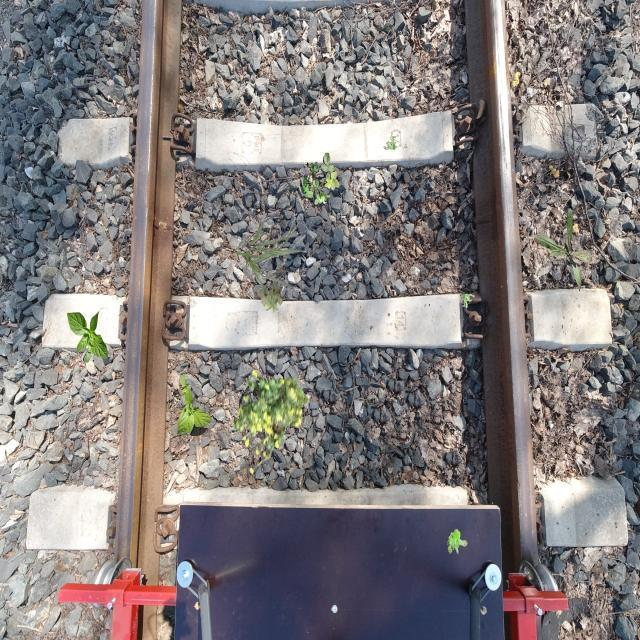Plant: (234, 370, 309, 475), (233, 217, 306, 310), (534, 208, 598, 292), (67, 310, 109, 363), (177, 374, 212, 436), (302, 153, 340, 208), (257, 281, 283, 313), (447, 529, 468, 554), (461, 293, 475, 308), (384, 135, 398, 150)
